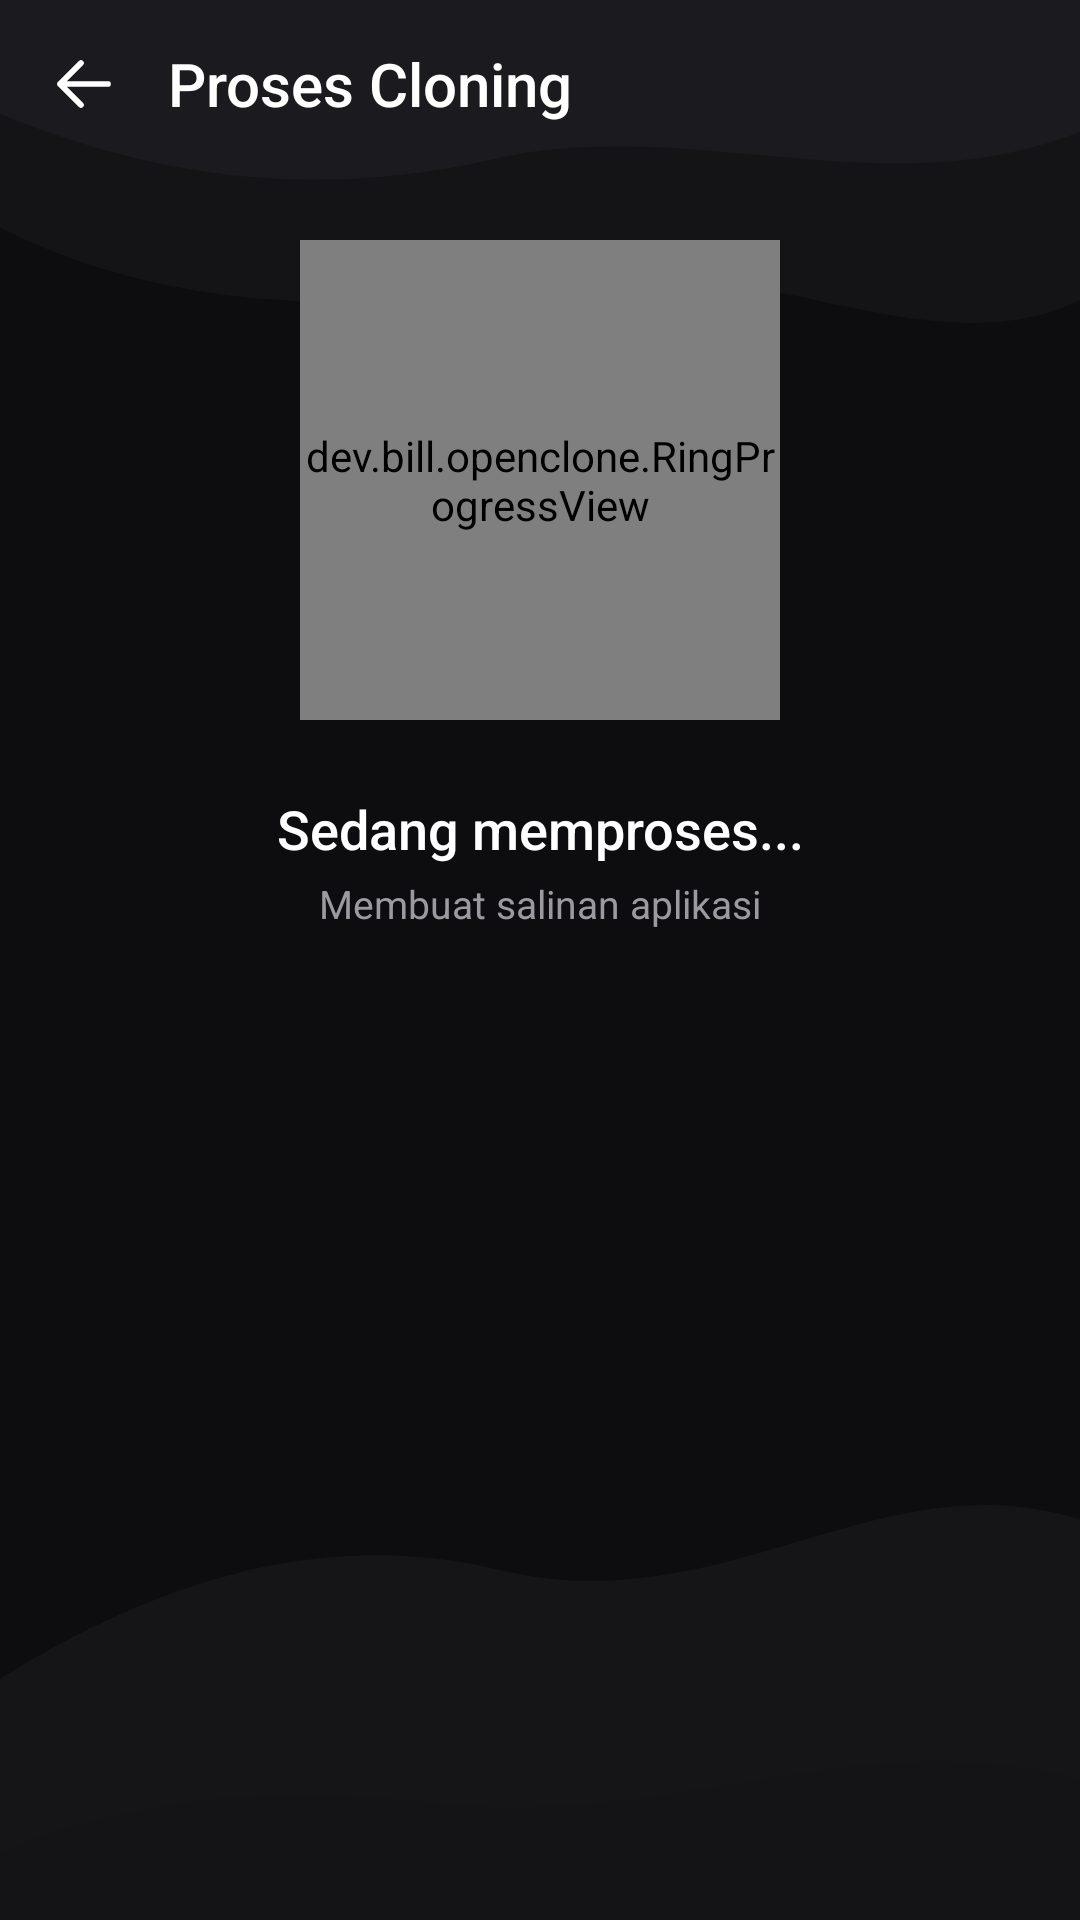

Named icons in this screenshot (1080px×1920px) and their bounding boxes, region(x1, y1, x2, y2):
Kembali: region(57, 60, 111, 108)
